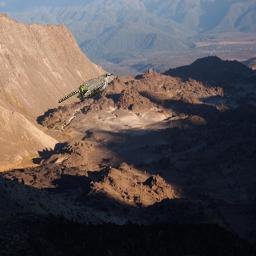Cuckoo: (57, 73, 113, 103)
